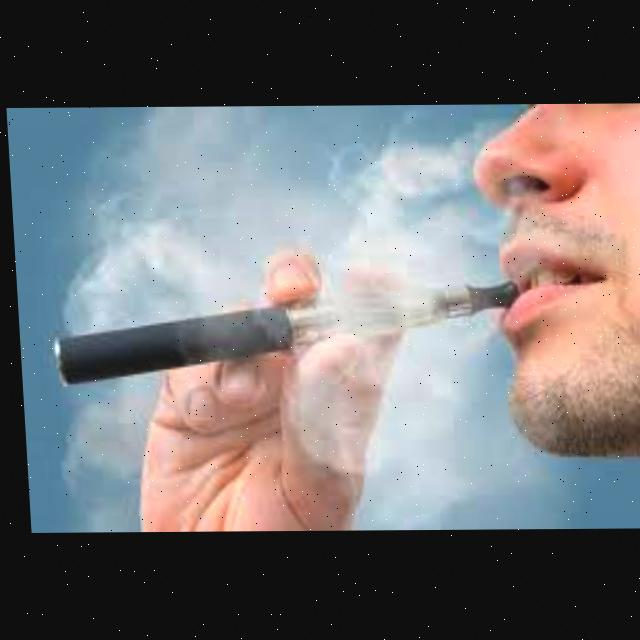vape: (46, 282, 521, 387)
